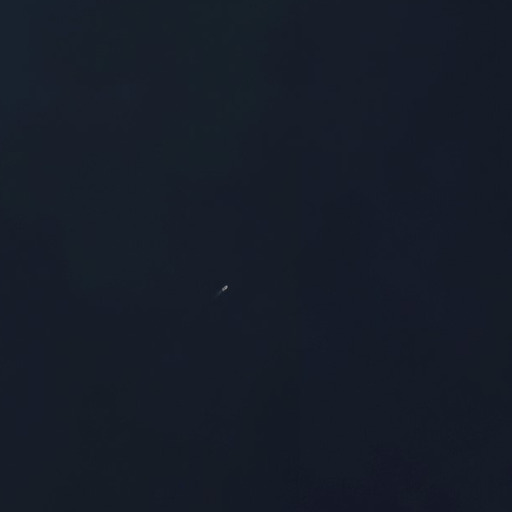ship: (218, 283, 232, 293)
